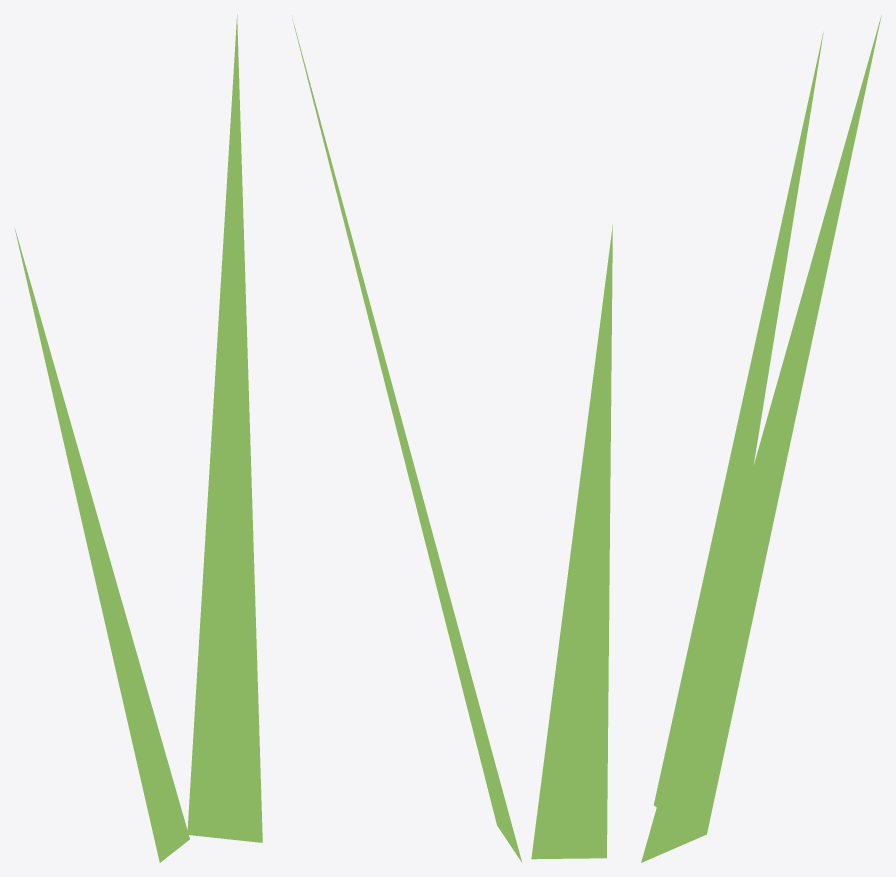
File: Grass_d_TwoS_01.fbx
3 views of the same model, side by side, from view 1: azimuth 30°, elevation 25°; view 2: azimuth 150°, elevation 25°; view 3: azimuth 270°, elevation 25° (orthographic). The views are drawn at different scales.
Parts seen in each view (by area): view 1: Grass_d_TwoS_01; view 2: Grass_d_TwoS_01; view 3: Grass_d_TwoS_01.
Boxes of the visible parts, x1,y1,x2,y2 form: Grass_d_TwoS_01: [14, 14, 262, 862]; Grass_d_TwoS_01: [291, 15, 612, 862]; Grass_d_TwoS_01: [641, 15, 881, 862].
Bounding box in the file's own units: 0.1482 × 0.4233 × 0.1035.
